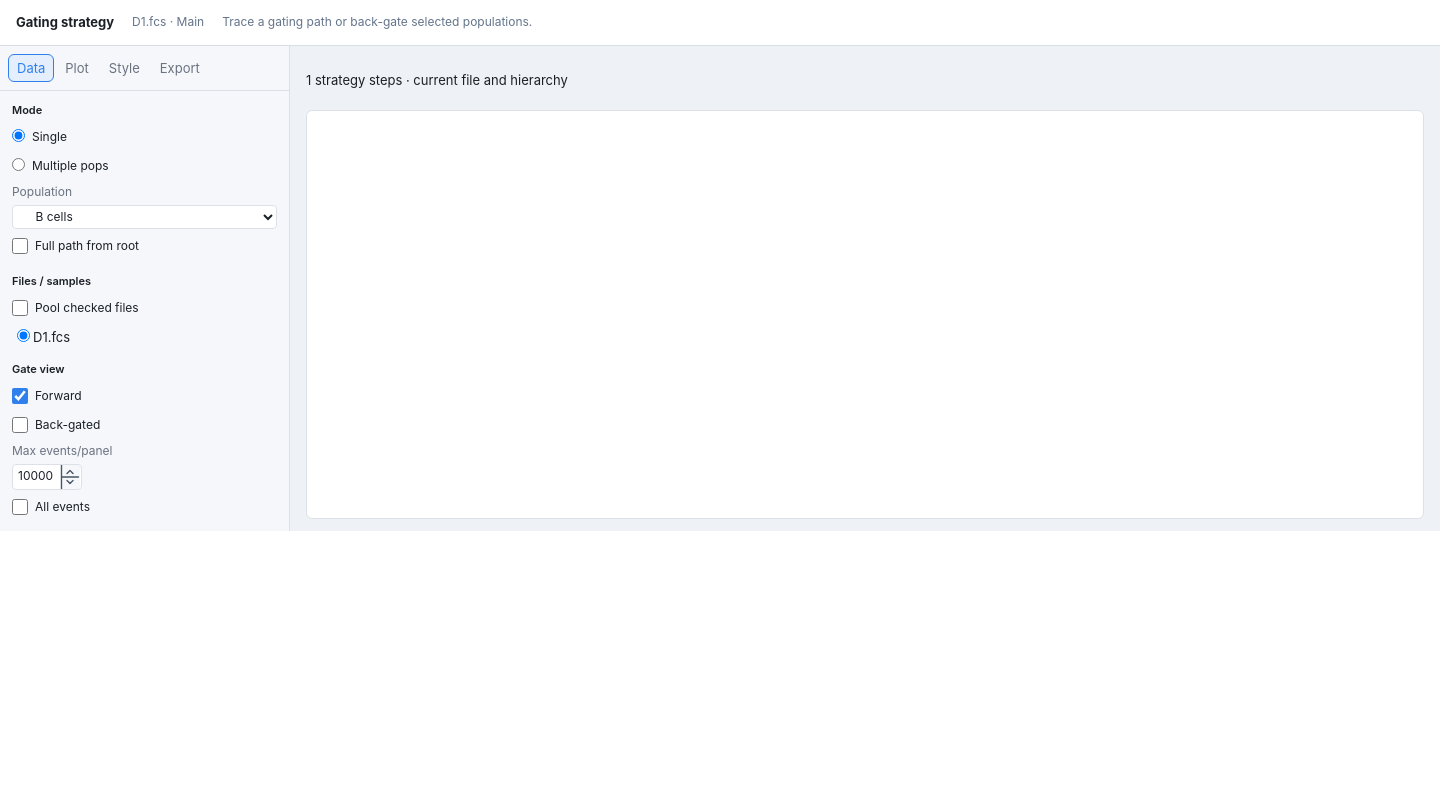
Test: the Strategy tab's controls › sit in side tabs, Data / Plot / Style / Export, with Mode and Population first
Expected: the heading "Mode" is shown, [12, 103, 42, 117]
Click the button "Plot". click: click(77, 68)
box: [56, 54, 98, 82]
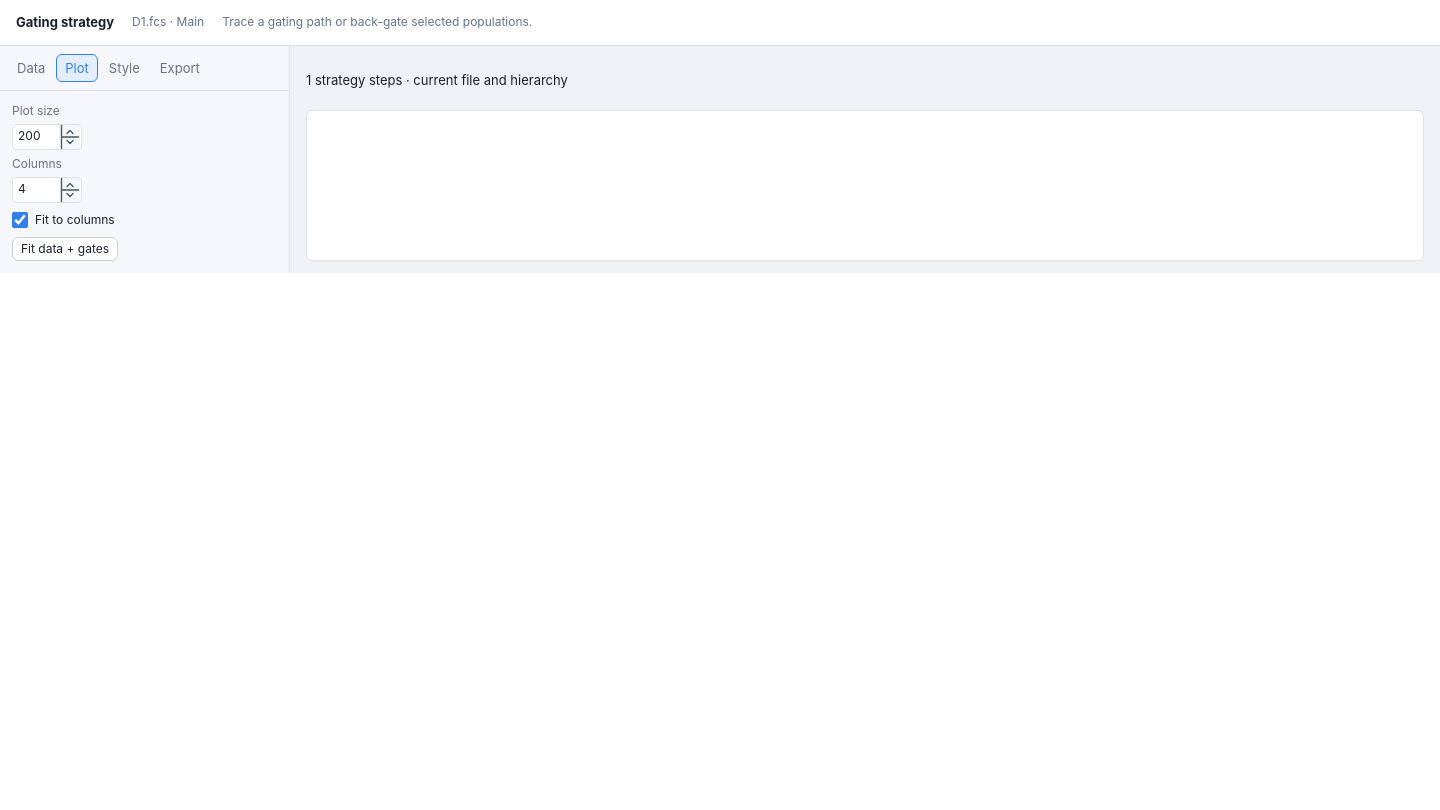
Expected: the element with class "gl-strategy-section" shows "Plot size", [12, 103, 60, 118]
Expected: the element with class "gl-strategy-section" shows "Fit data + gates", [12, 237, 118, 261]
Click the button "Style". click: click(124, 68)
box: [100, 54, 149, 82]
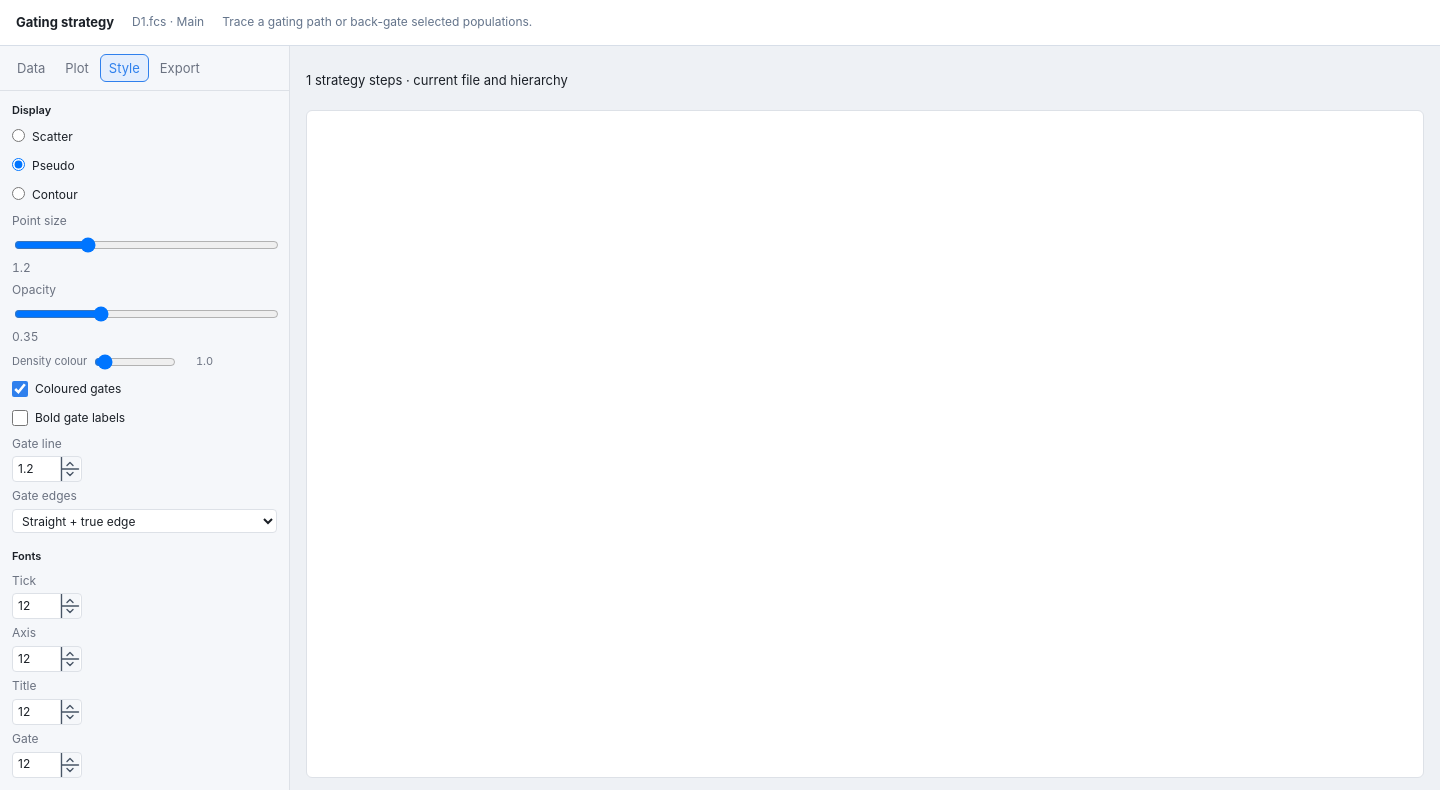
Expected: the element with class "gl-strategy-section" shows "Point size", [12, 213, 67, 228]
Expected: the element with class "gl-strategy-section" shows "Gate edges", [12, 488, 77, 503]
Click the button "Export". click: click(180, 68)
box: [151, 54, 209, 82]
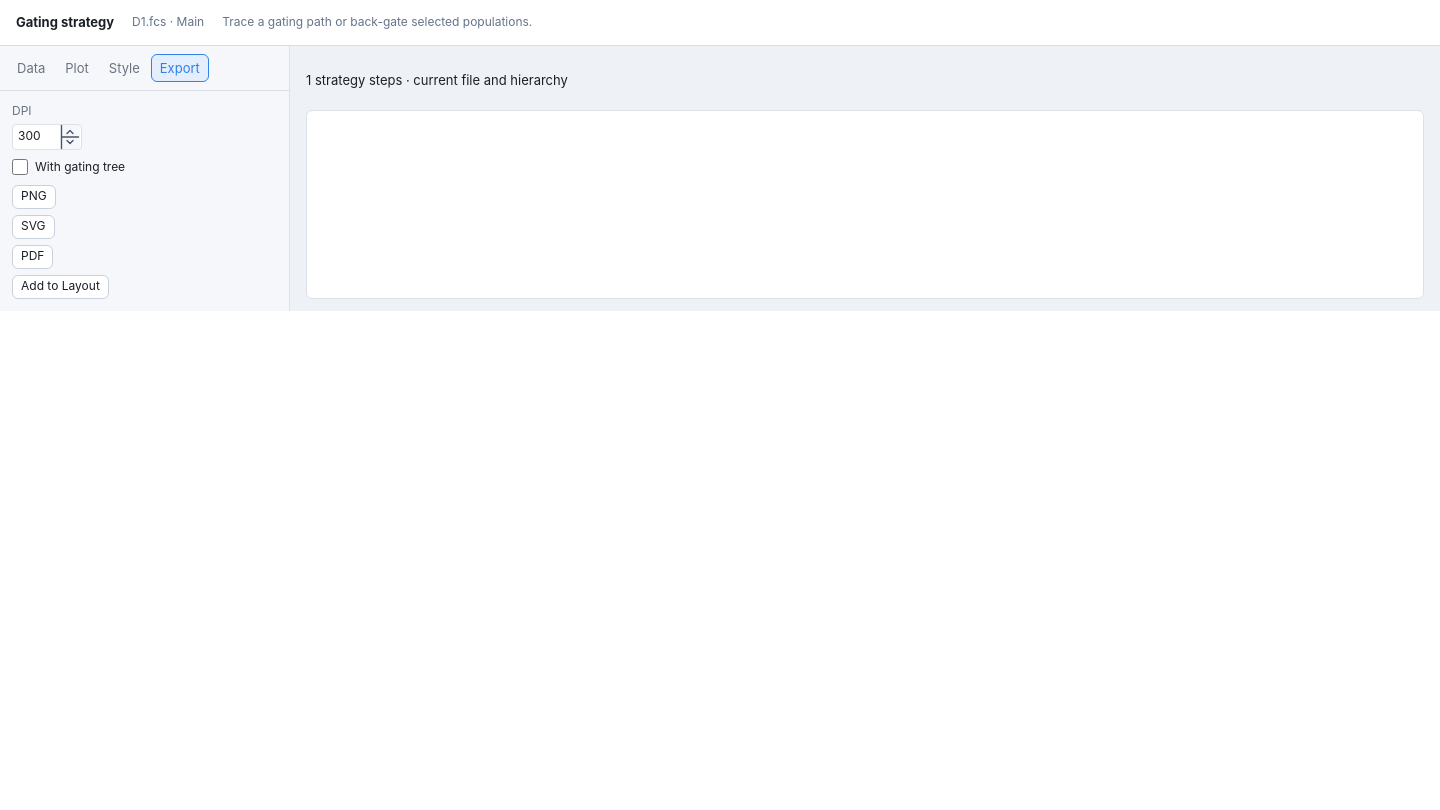
Expected: the element with class "gl-strategy-section" shows "With gating tree", [35, 159, 125, 174]
